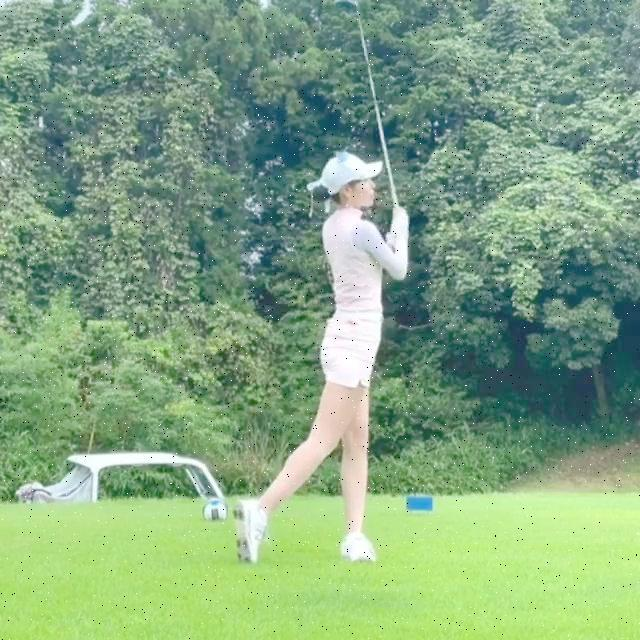golf club-handle: (343, 0, 407, 209)
golf club-head: (343, 0, 360, 13)
